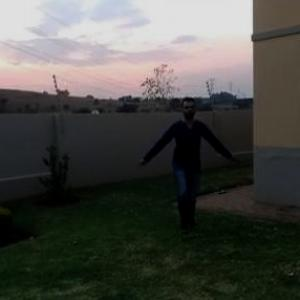land: (129, 94, 231, 224)
